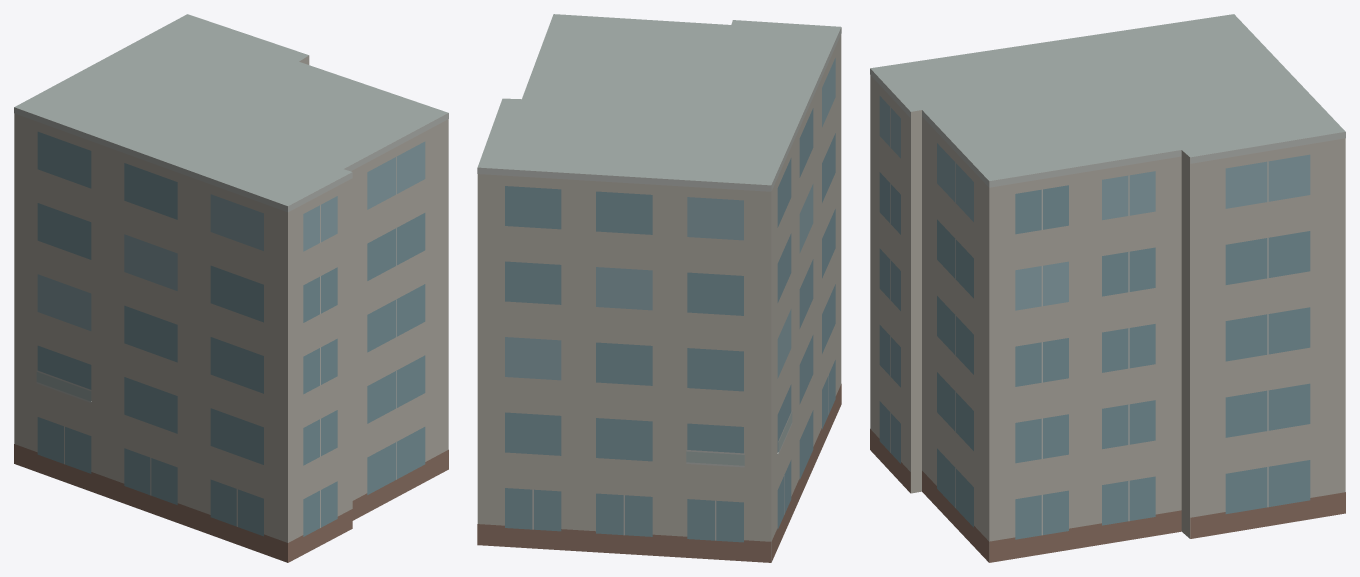
File: survey-upis-32554619.glb
3 views of the same model, side by side, from view 1: azimuth 30°, elevation 25°; view 2: azimuth 150°, elevation 25°; view 3: azimuth 270°, elevation 25° (orthographic). The views are drawn at different scales.
Visible parts, largest first — view 1: survey-upis-32554619.tmp; view 2: survey-upis-32554619.tmp; view 3: survey-upis-32554619.tmp.
Boxes of the visible parts, x1=… form: survey-upis-32554619.tmp: x1=14, y1=14, x2=448, y2=562; survey-upis-32554619.tmp: x1=477, y1=14, x2=841, y2=562; survey-upis-32554619.tmp: x1=870, y1=14, x2=1345, y2=562.
Bounding box in the file's own units: 13.45 × 14.3 × 16.16.
